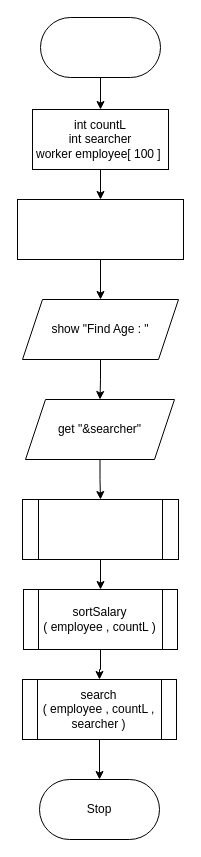
Some shapes in this 201 by 857 pixel diagram are drawn without their labels. Here are the shapes that lost their labels. From the top down, the centre of each, then its label:
point (100, 47): Start
point (100, 229): countL = collector( employee )
point (100, 529): sortAge ( employee , countL )
